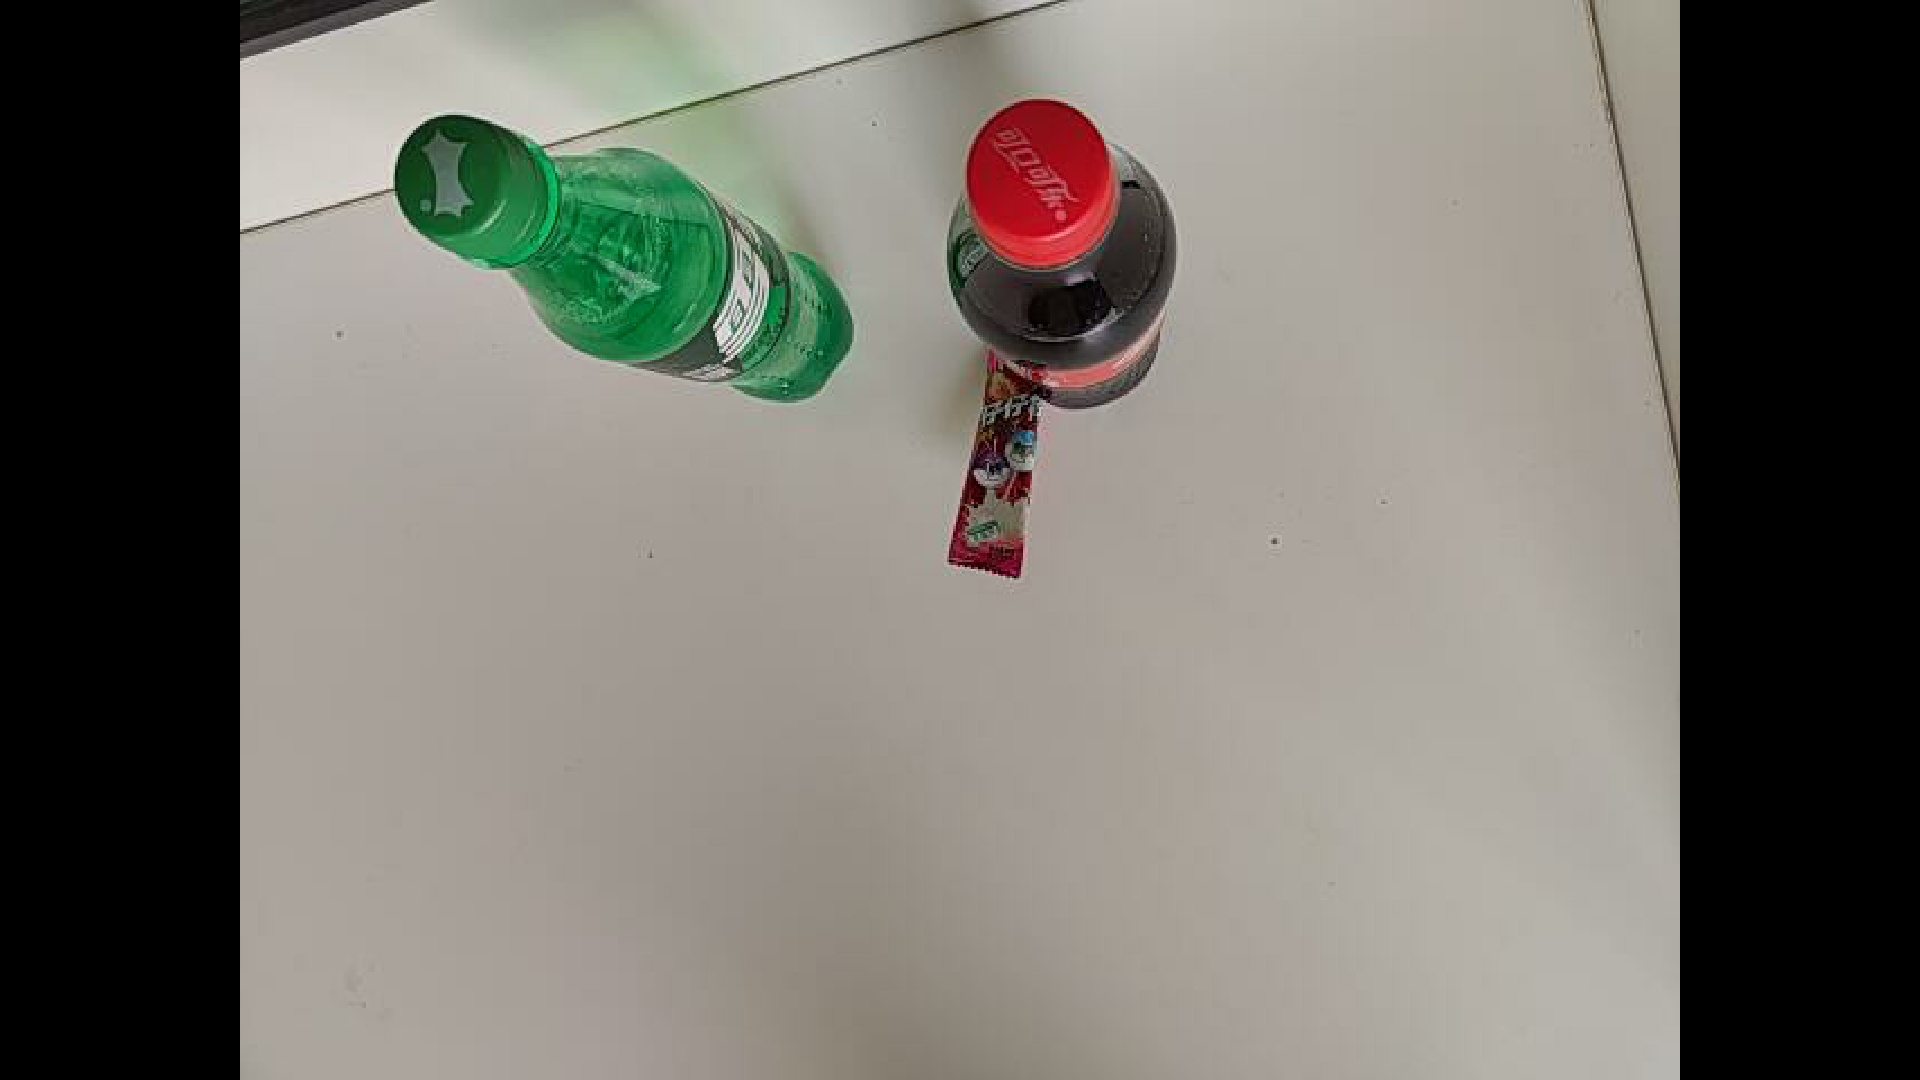cola: (944, 96, 1180, 413)
sprite: (277, 46, 895, 365)
sugar: (944, 348, 1093, 582)
